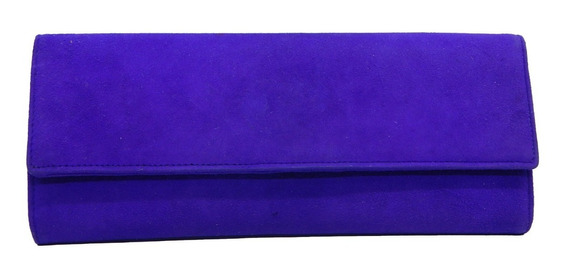cartera: (20, 25, 541, 250)
